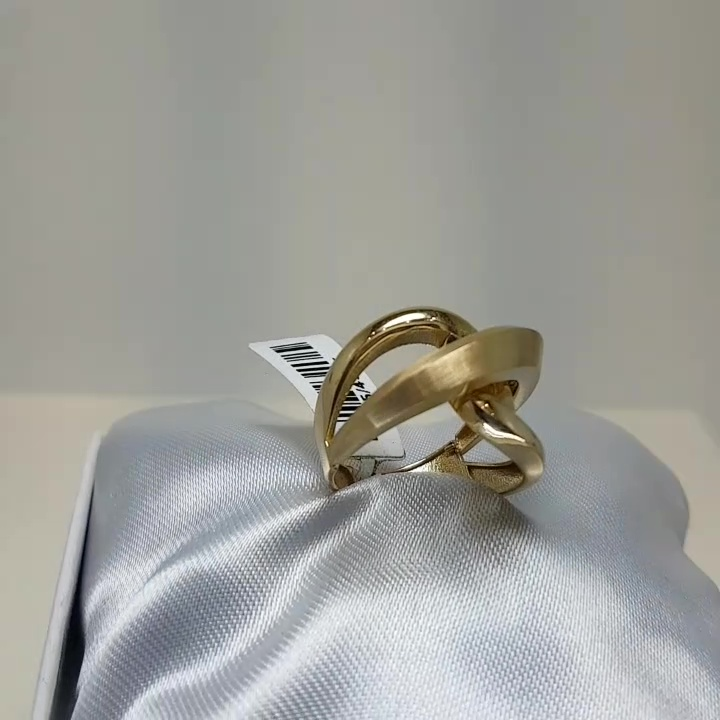Ring 3: (311, 291, 570, 533)
